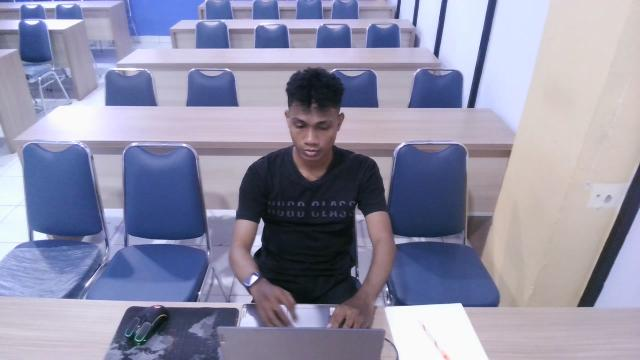Normal_Focus: (211, 55, 413, 351)
